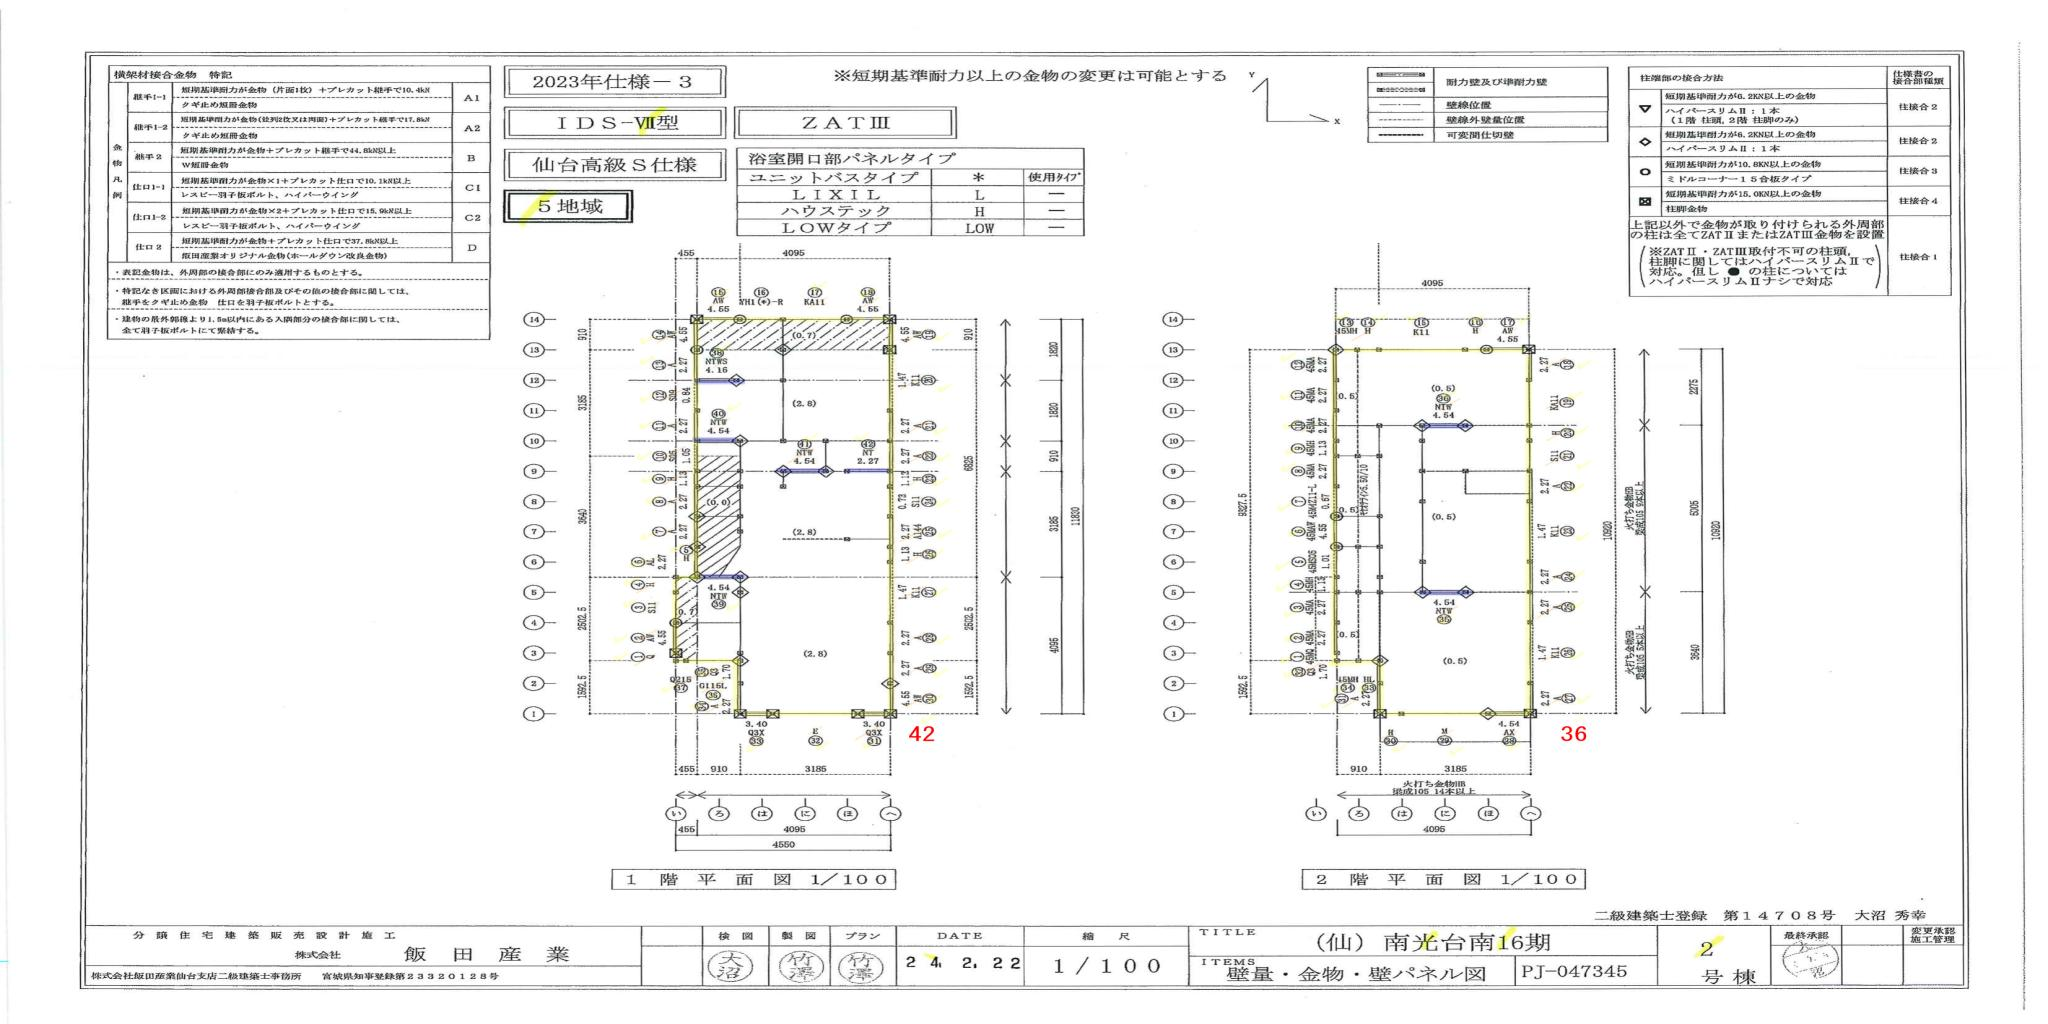CAD: (622, 281, 942, 750), (1285, 313, 1593, 752)
